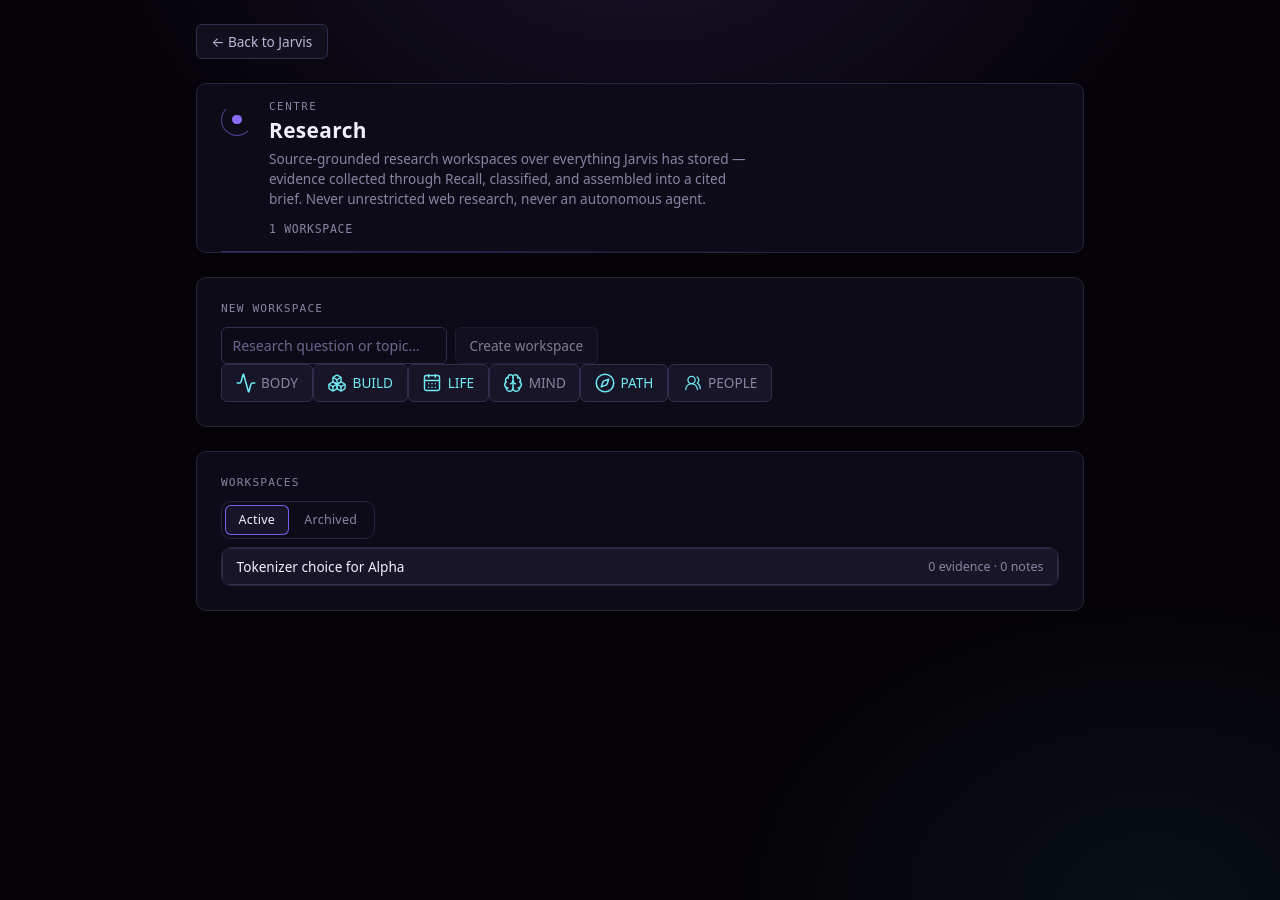
Test: ResearchCentre — workspace detail: evidence › refreshes the workspace after adding evidence so the brief can be generated without a reload
Click the text "Tokenizer choice for Alpha": point(321, 566) top-left (237, 556), bottom-right (404, 576)
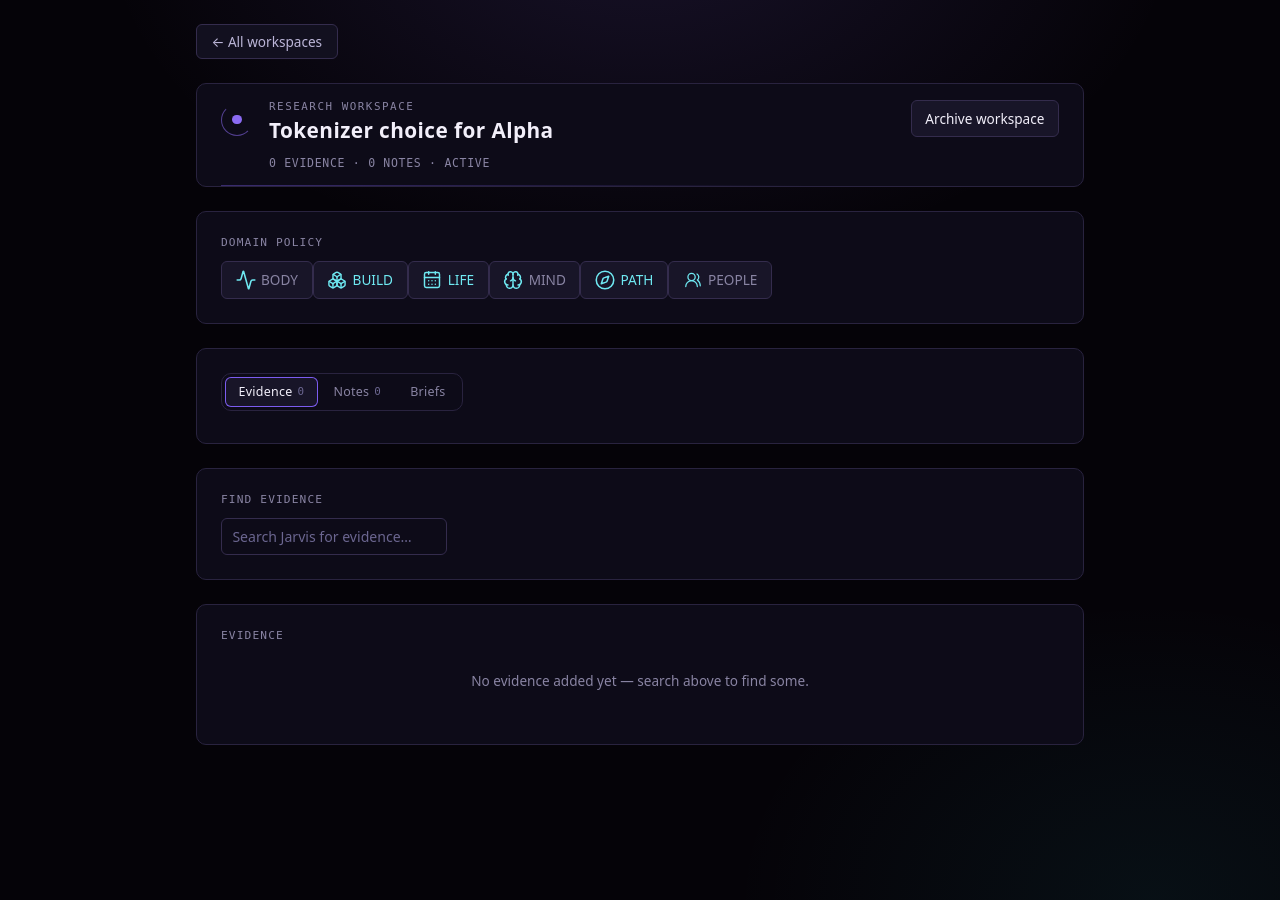
Now the text "0 evidence · 0 notes · active" is shown, box top-left (269, 156), bottom-right (490, 170)
In the field with placeholder "Search Jarvis for evidence…": point(334, 536) top-left (221, 518), bottom-right (447, 554), type "tokenizer"
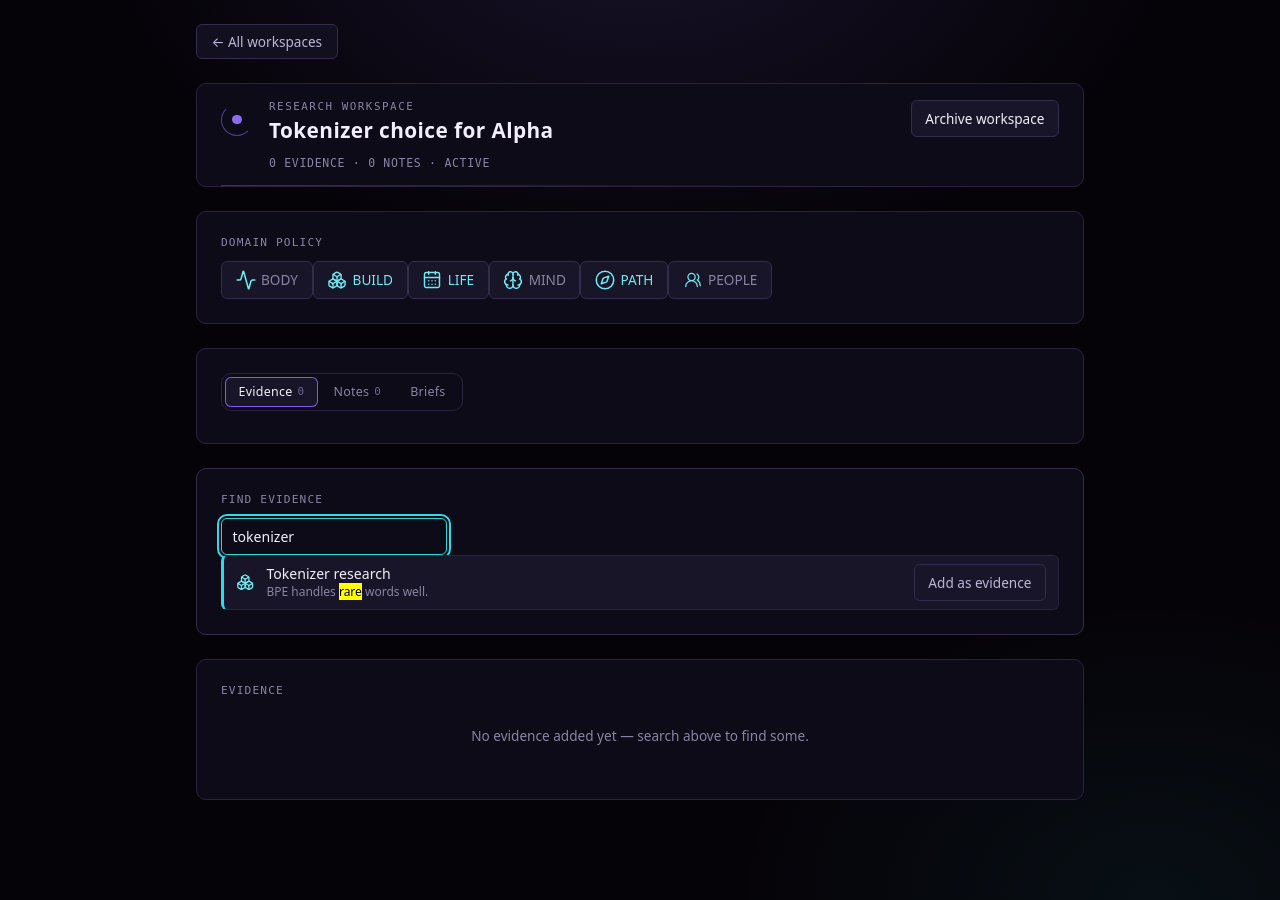
Click the button "Add as evidence": point(980, 582) top-left (914, 564), bottom-right (1046, 600)
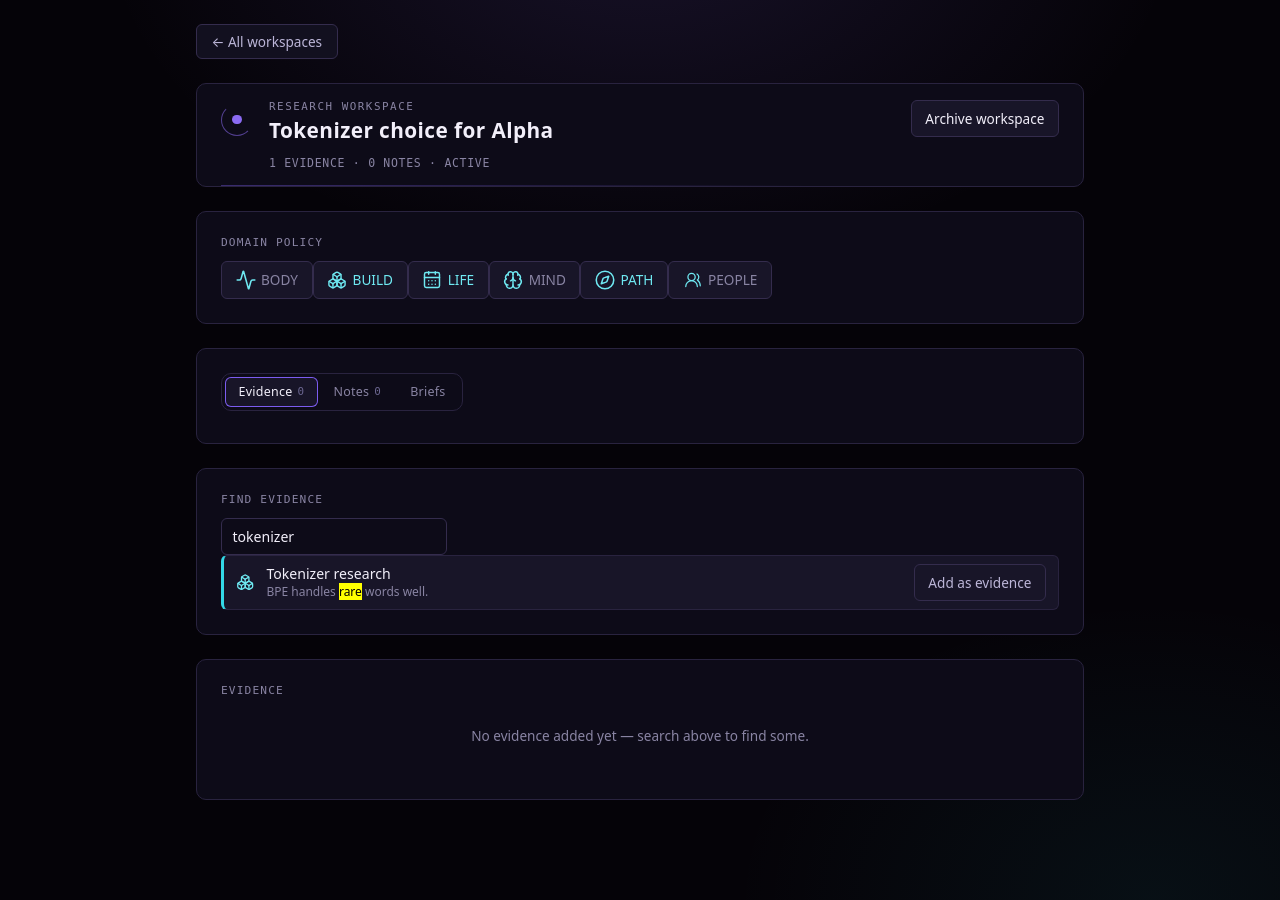
Now the text "1 evidence · 0 notes · active" is shown, box top-left (269, 156), bottom-right (490, 170)
